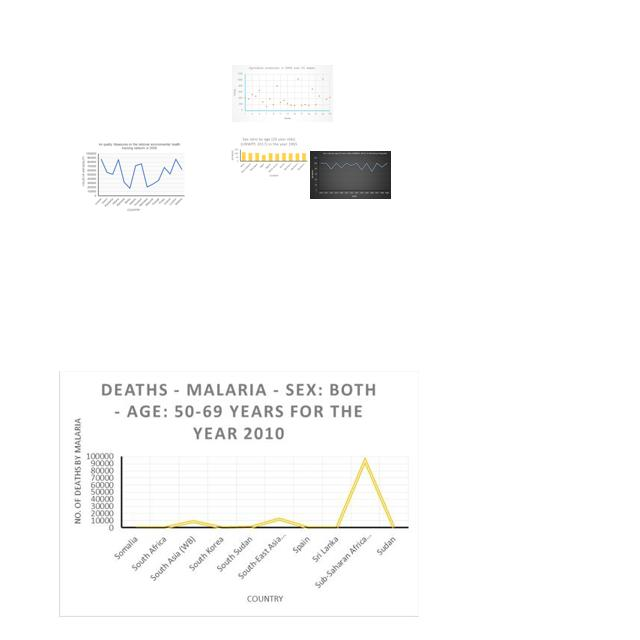Graph: (59, 371, 419, 617), (80, 141, 187, 213), (232, 65, 333, 122), (310, 151, 391, 199), (229, 136, 309, 178)
